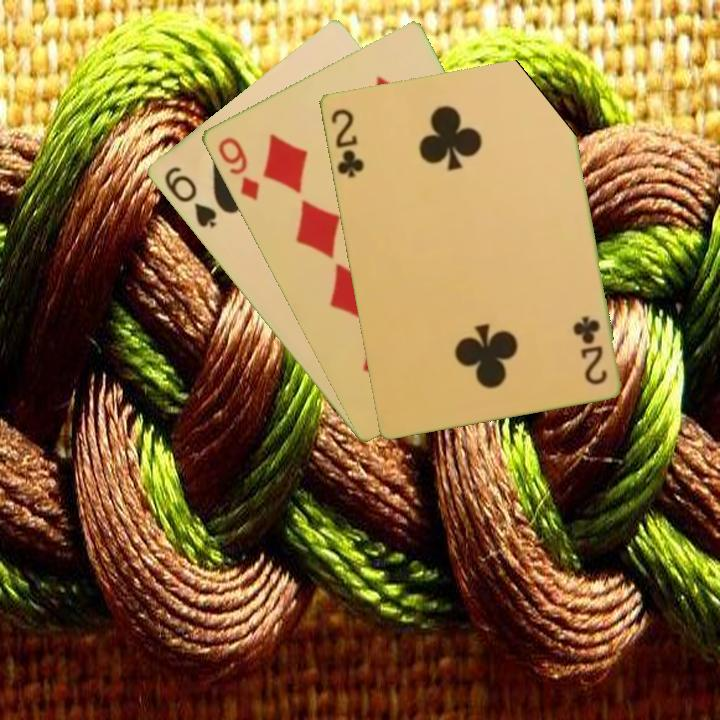2c: (326, 105, 366, 180), (571, 312, 610, 387)
6s: (160, 162, 220, 231)
9d: (213, 133, 262, 204)
